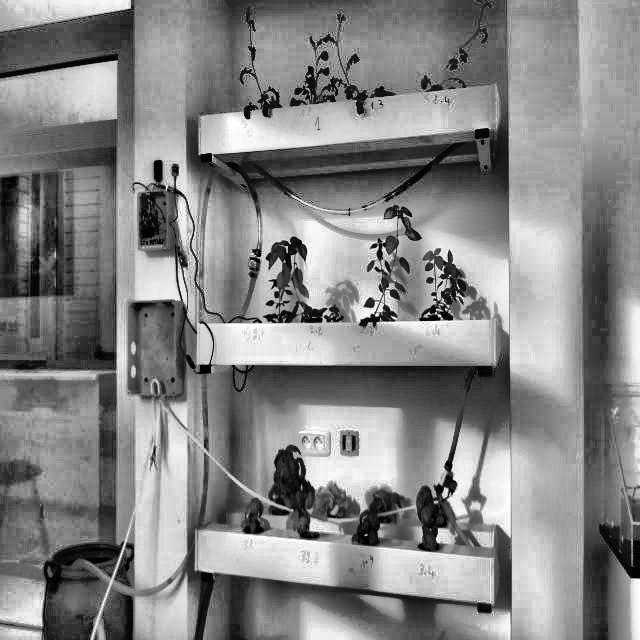plants: (364, 200, 426, 322), (420, 2, 498, 92), (332, 12, 396, 104), (270, 236, 332, 320), (272, 440, 320, 538), (236, 6, 280, 112), (417, 244, 468, 324), (292, 34, 339, 108), (416, 487, 448, 556), (262, 274, 300, 322), (239, 495, 273, 536), (367, 483, 401, 524), (352, 508, 383, 545)
